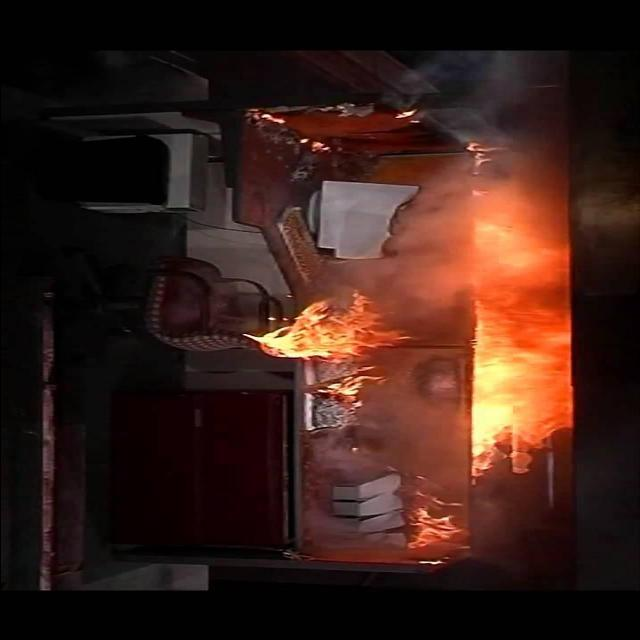Fire: (466, 205, 580, 479), (239, 288, 405, 366), (409, 487, 466, 551), (311, 369, 399, 406), (461, 139, 511, 177)
